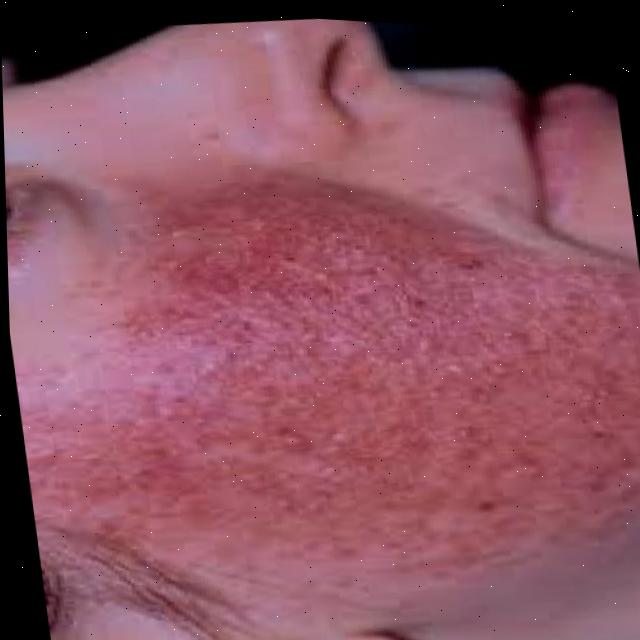Rosacea: (96, 163, 618, 560)
